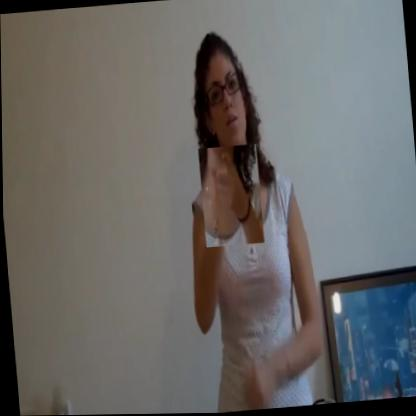HowAreYou: (198, 144, 264, 248)
